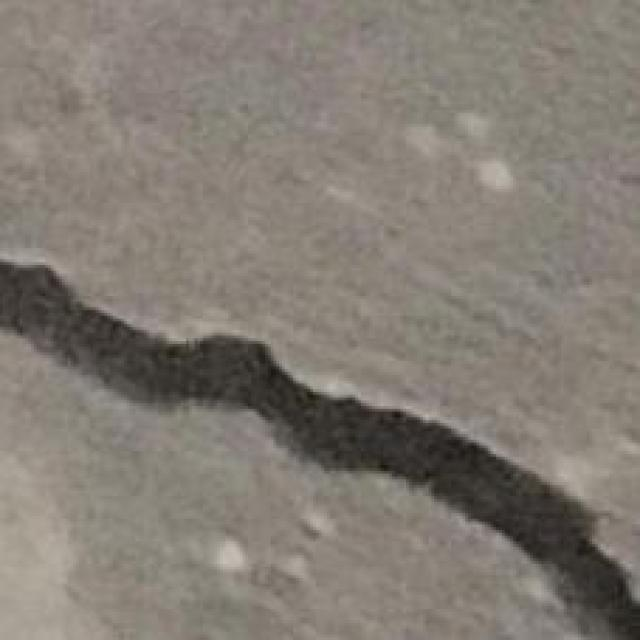Transverse: (0, 252, 640, 640)
